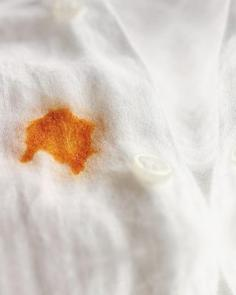stain: (18, 105, 107, 181)
